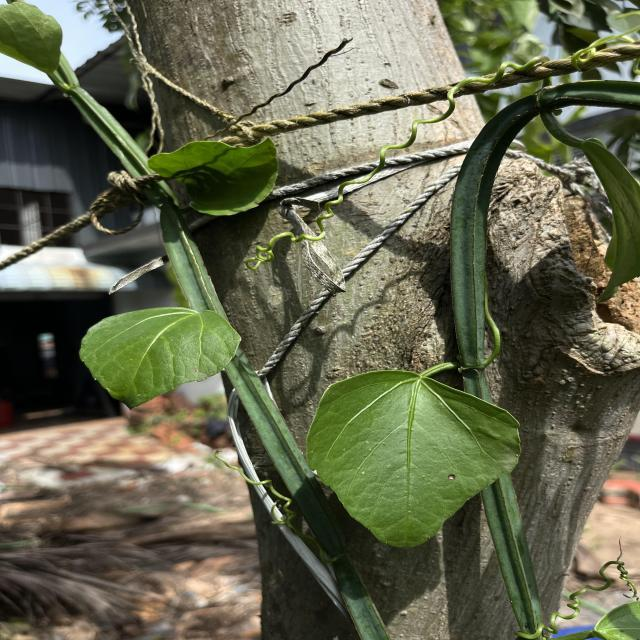Cissus quadrangularis: (302, 366, 525, 550), (75, 302, 244, 412)
